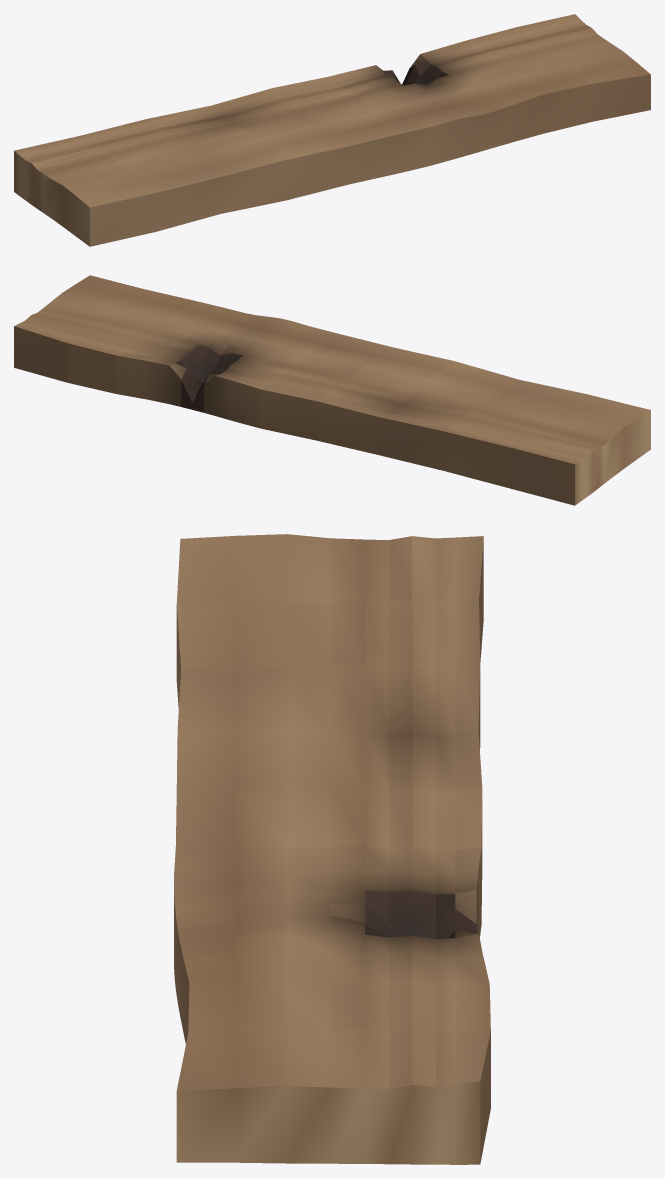
File: hearth_board.glb
3 views of the same model, one above another, from view 1: azimuth 30°, elevation 25°; view 2: azimuth 150°, elevation 25°; view 3: azimuth 270°, elevation 25° (orthographic). The views are drawn at different scales.
Parts seen in each view (by area): view 1: hearth_board; view 2: hearth_board; view 3: hearth_board.
Boxes of the visible parts, <box> form: hearth_board: <box>14,14,650,246</box>; hearth_board: <box>14,275,650,505</box>; hearth_board: <box>174,534,490,1164</box>.
Size of the model in its own units: 0.3 by 0.022 by 0.0735.
